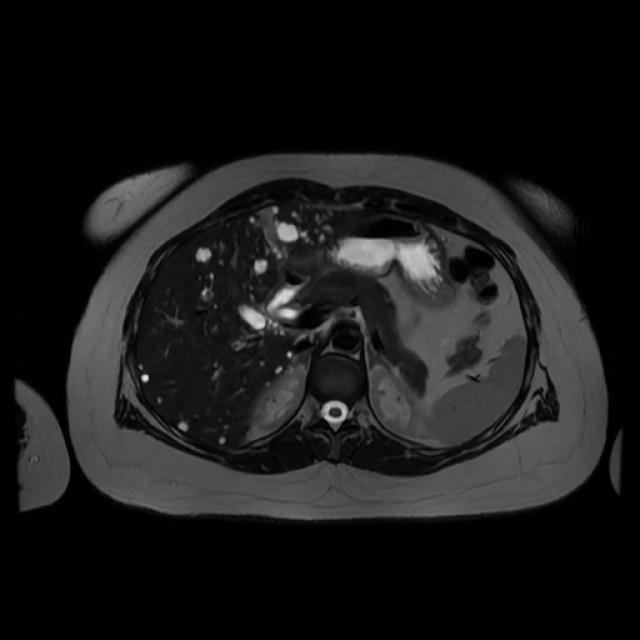sag: (255, 364, 307, 427)
sol: (374, 367, 416, 433)
